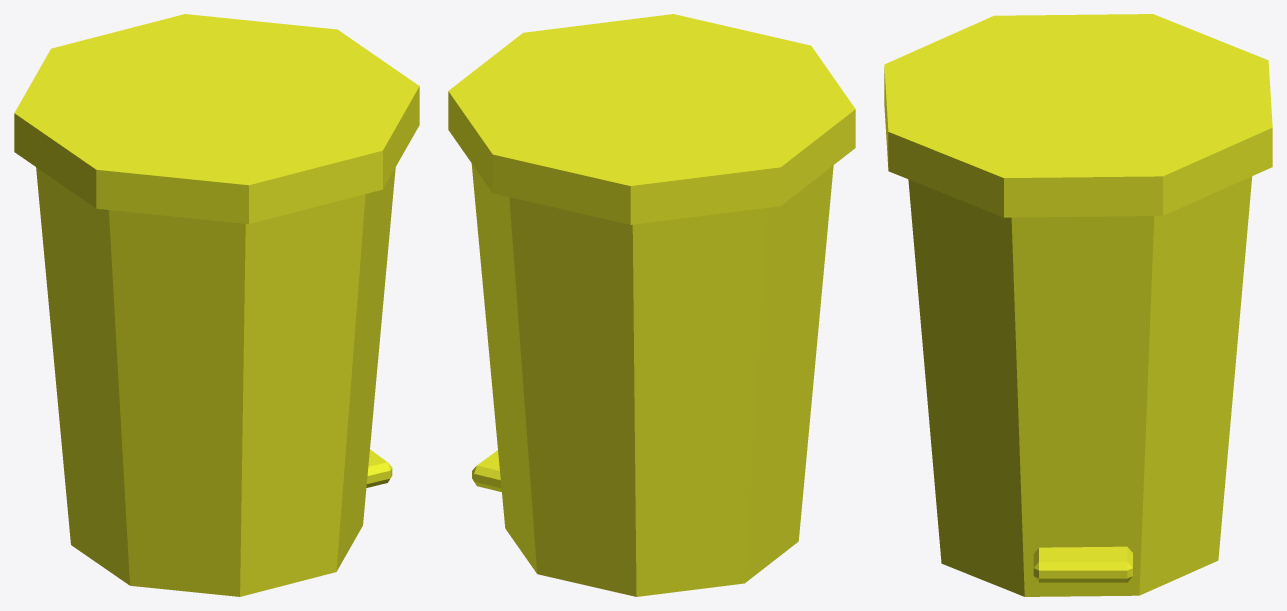
The model's file is caneca amarilla .fbx.
3 renders of one model, left to right at view 1: azimuth 30°, elevation 25°; view 2: azimuth 150°, elevation 25°; view 3: azimuth 270°, elevation 25°, orthographic.
Parts seen in each view (by area): view 1: Papelera Blanca, Papelera Blanca.001; view 2: Papelera Blanca, Papelera Blanca.001; view 3: Papelera Blanca, Papelera Blanca.001.
Boxes of the visible parts, x1,y1,x2,y2 form: Papelera Blanca: (36, 167, 395, 596); Papelera Blanca.001: (14, 14, 419, 223); Papelera Blanca: (471, 163, 833, 596); Papelera Blanca.001: (448, 14, 855, 224); Papelera Blanca: (908, 176, 1252, 596); Papelera Blanca.001: (884, 14, 1272, 217).
Size of the model in its own units: 27.99 by 35.13 by 27.99.
Materials: 2 (2 with a texture image).
